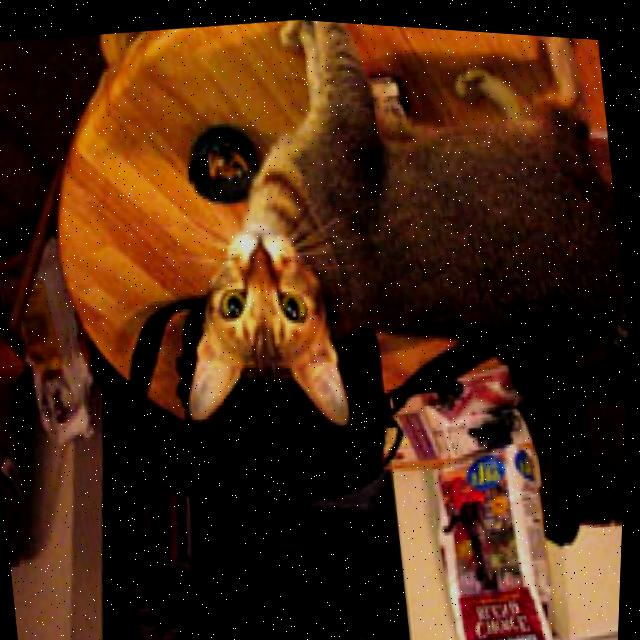Abyssinian: (131, 8, 640, 466)
